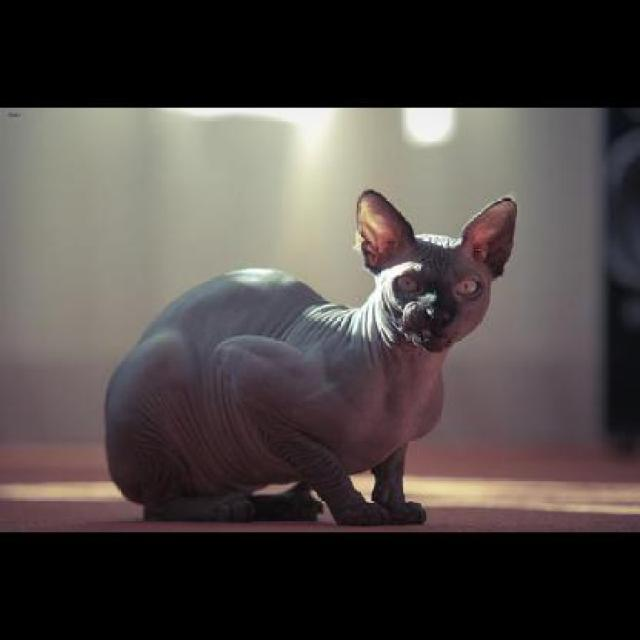unauthorized: (103, 188, 517, 526)
